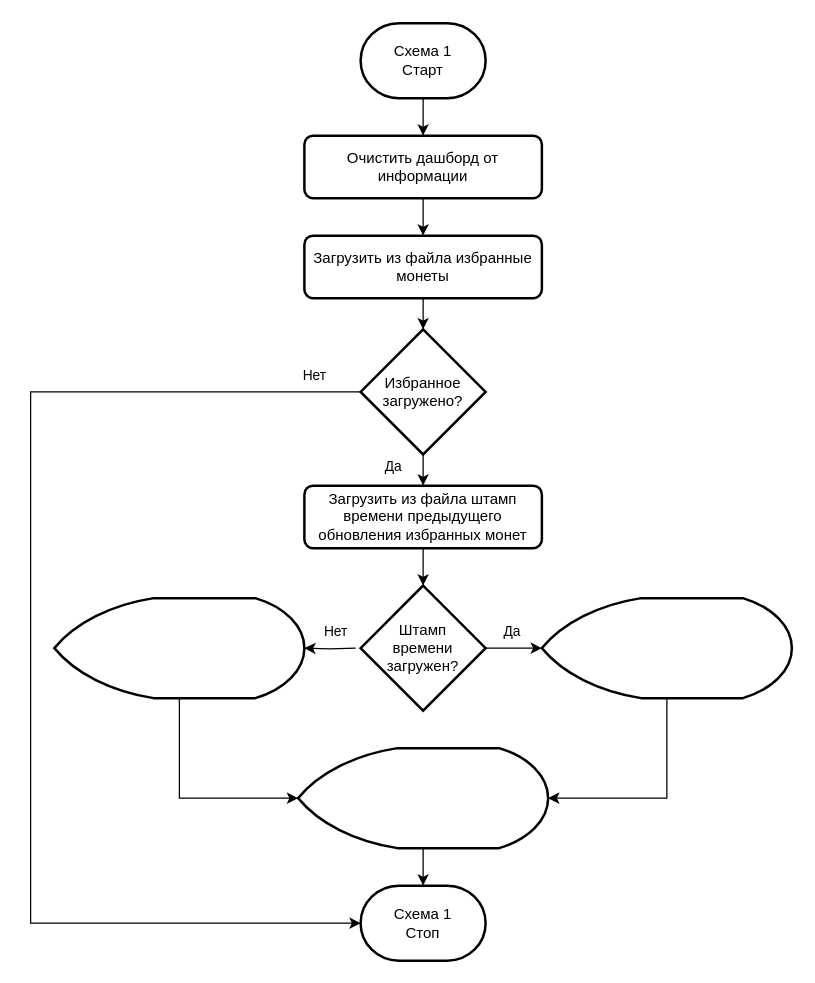
Image size: 815x983. Some labels were removed from this diagram. The centre of each missing label's shape, as x and y in pixels:
Вывод на экран заданной информации об избранных монетах: (x=422, y=797)
Вывод на экран штампа времени последнего обновления: (x=666, y=647)
Сообщить об отсутствии штампа времени: (x=178, y=647)
